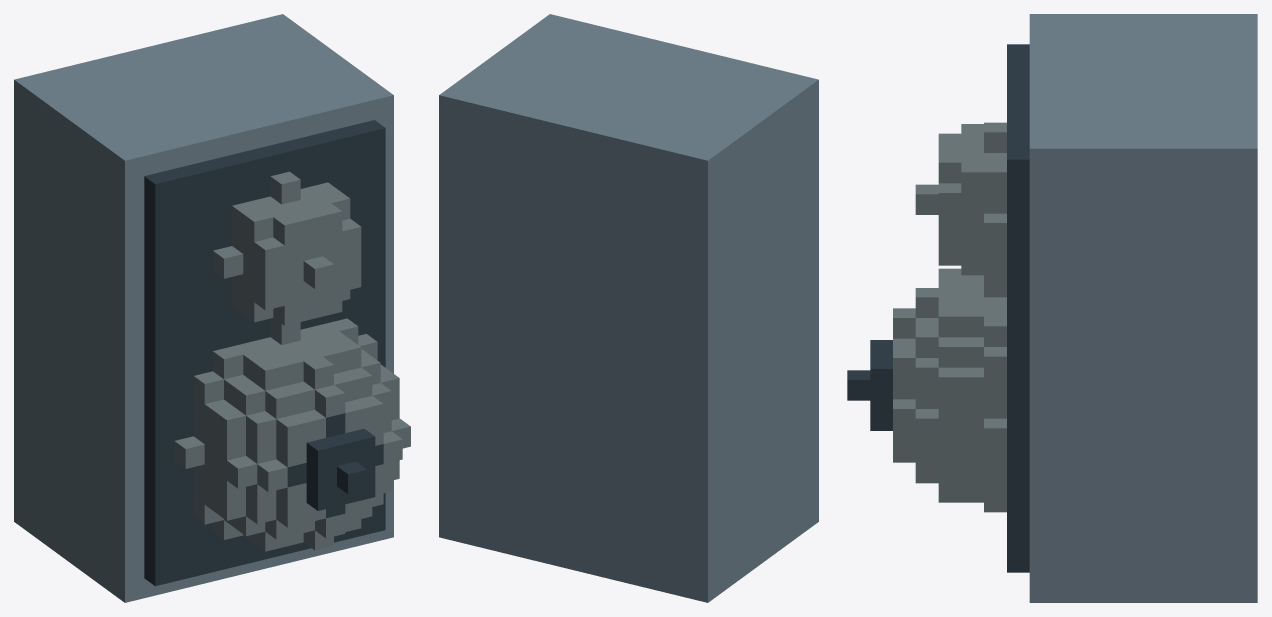
The model's file is film-16.glb.
The picture shows the model from 3 angles, left to right: view 1: azimuth 30°, elevation 25°; view 2: azimuth 150°, elevation 25°; view 3: azimuth 270°, elevation 25°; orthographic projection. The views are drawn at different scales.
Visible parts, largest first — view 1: Studio speaker; view 2: Studio speaker; view 3: Studio speaker.
Part boxes in pixels (<box>): Studio speaker: <box>14,14,410,602</box>; Studio speaker: <box>439,14,818,602</box>; Studio speaker: <box>847,14,1257,602</box>.
Bounding box in the file's own units: 1.12 × 1.76 × 1.44.
